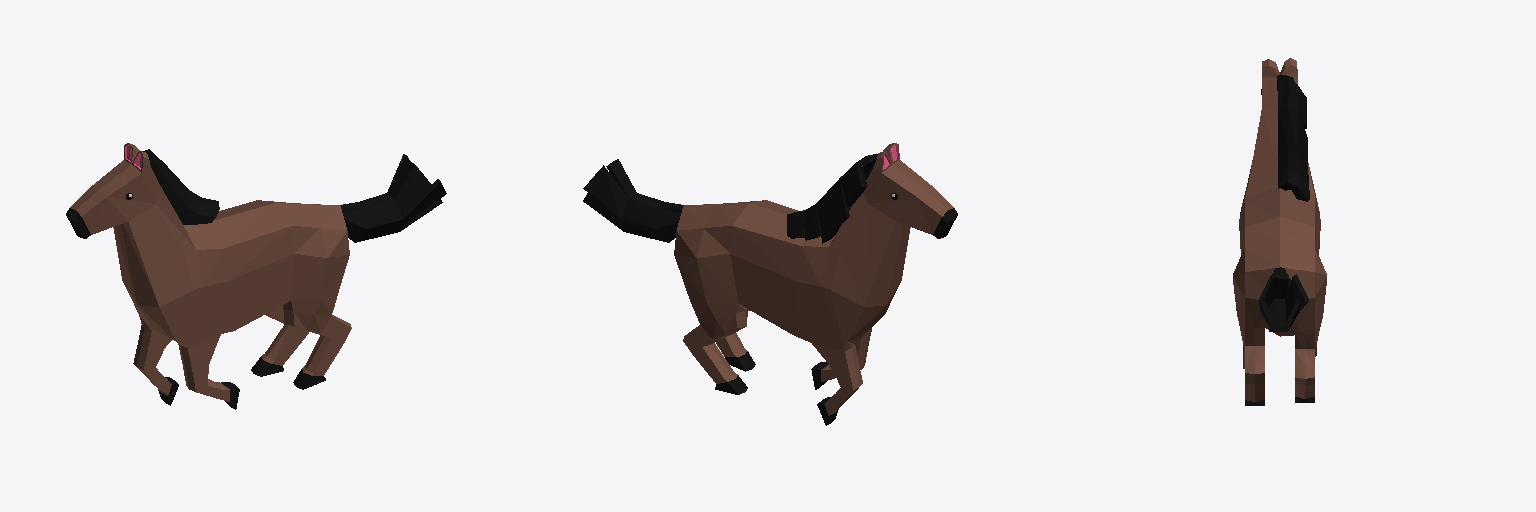
The model's file is Horse_01.obj.
3 views of the same model, side by side, from view 1: azimuth 30°, elevation 25°; view 2: azimuth 150°, elevation 25°; view 3: azimuth 270°, elevation 25° (orthographic).
Parts seen in each view (by area): view 1: Cube.027; view 2: Cube.027; view 3: Cube.027.
Part boxes in pixels (x1,y1,x2,y2): Cube.027: (66,143,446,409); Cube.027: (583,143,957,425); Cube.027: (1233,58,1326,405).
Bounding box in the file's own units: 279 × 198 × 61.35.